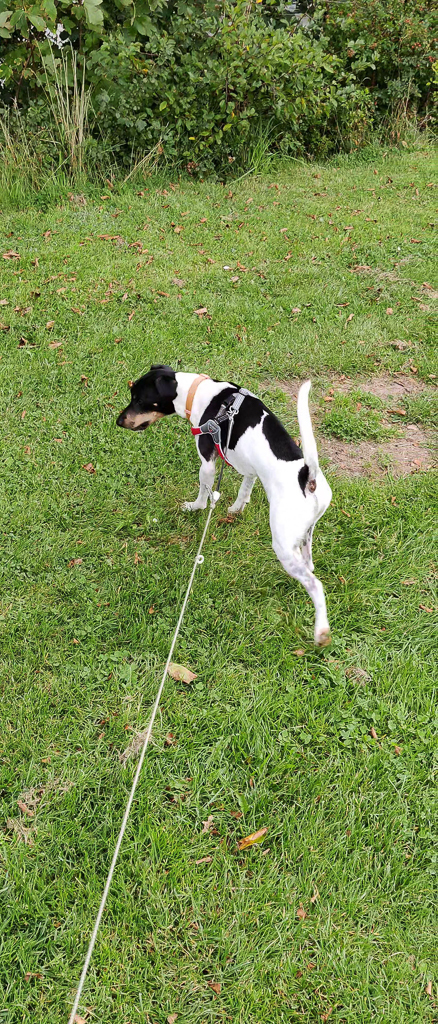Dog: (96, 335, 363, 673)
